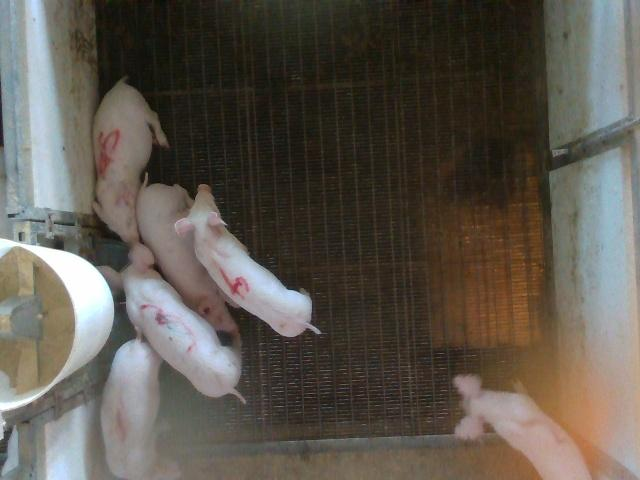pig-1: (99, 331, 161, 479)
pig-2: (454, 375, 591, 479)
pig-3: (98, 244, 249, 401)
pig-4: (175, 185, 320, 336)
pig-5: (92, 78, 169, 242)
